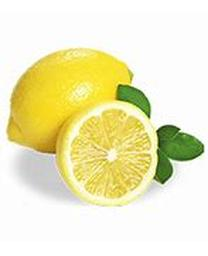lemon: (7, 49, 133, 153), (55, 103, 157, 208)
